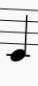note: (4, 4, 34, 65)
